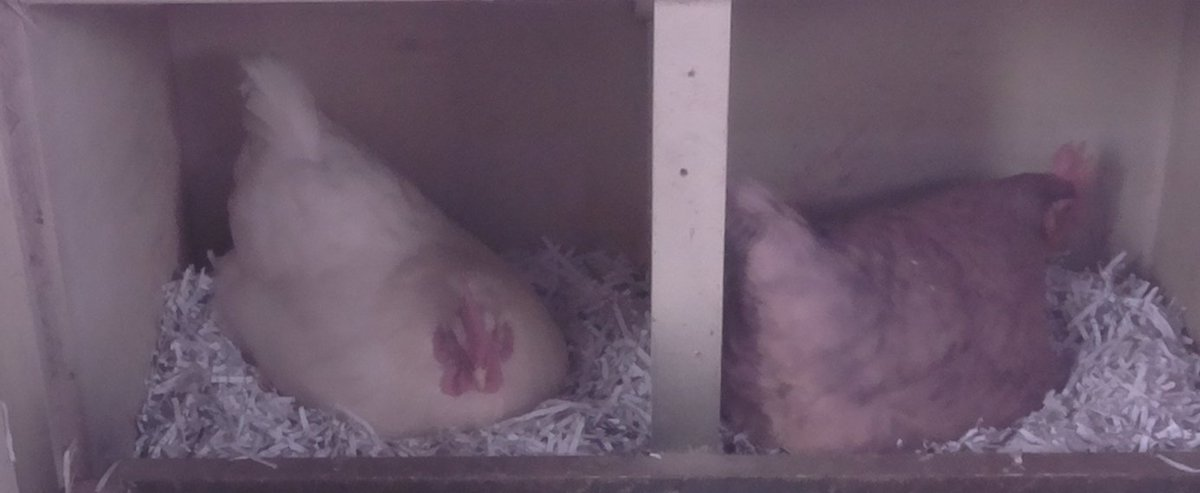hen: (206, 59, 579, 448), (731, 132, 1098, 450)
